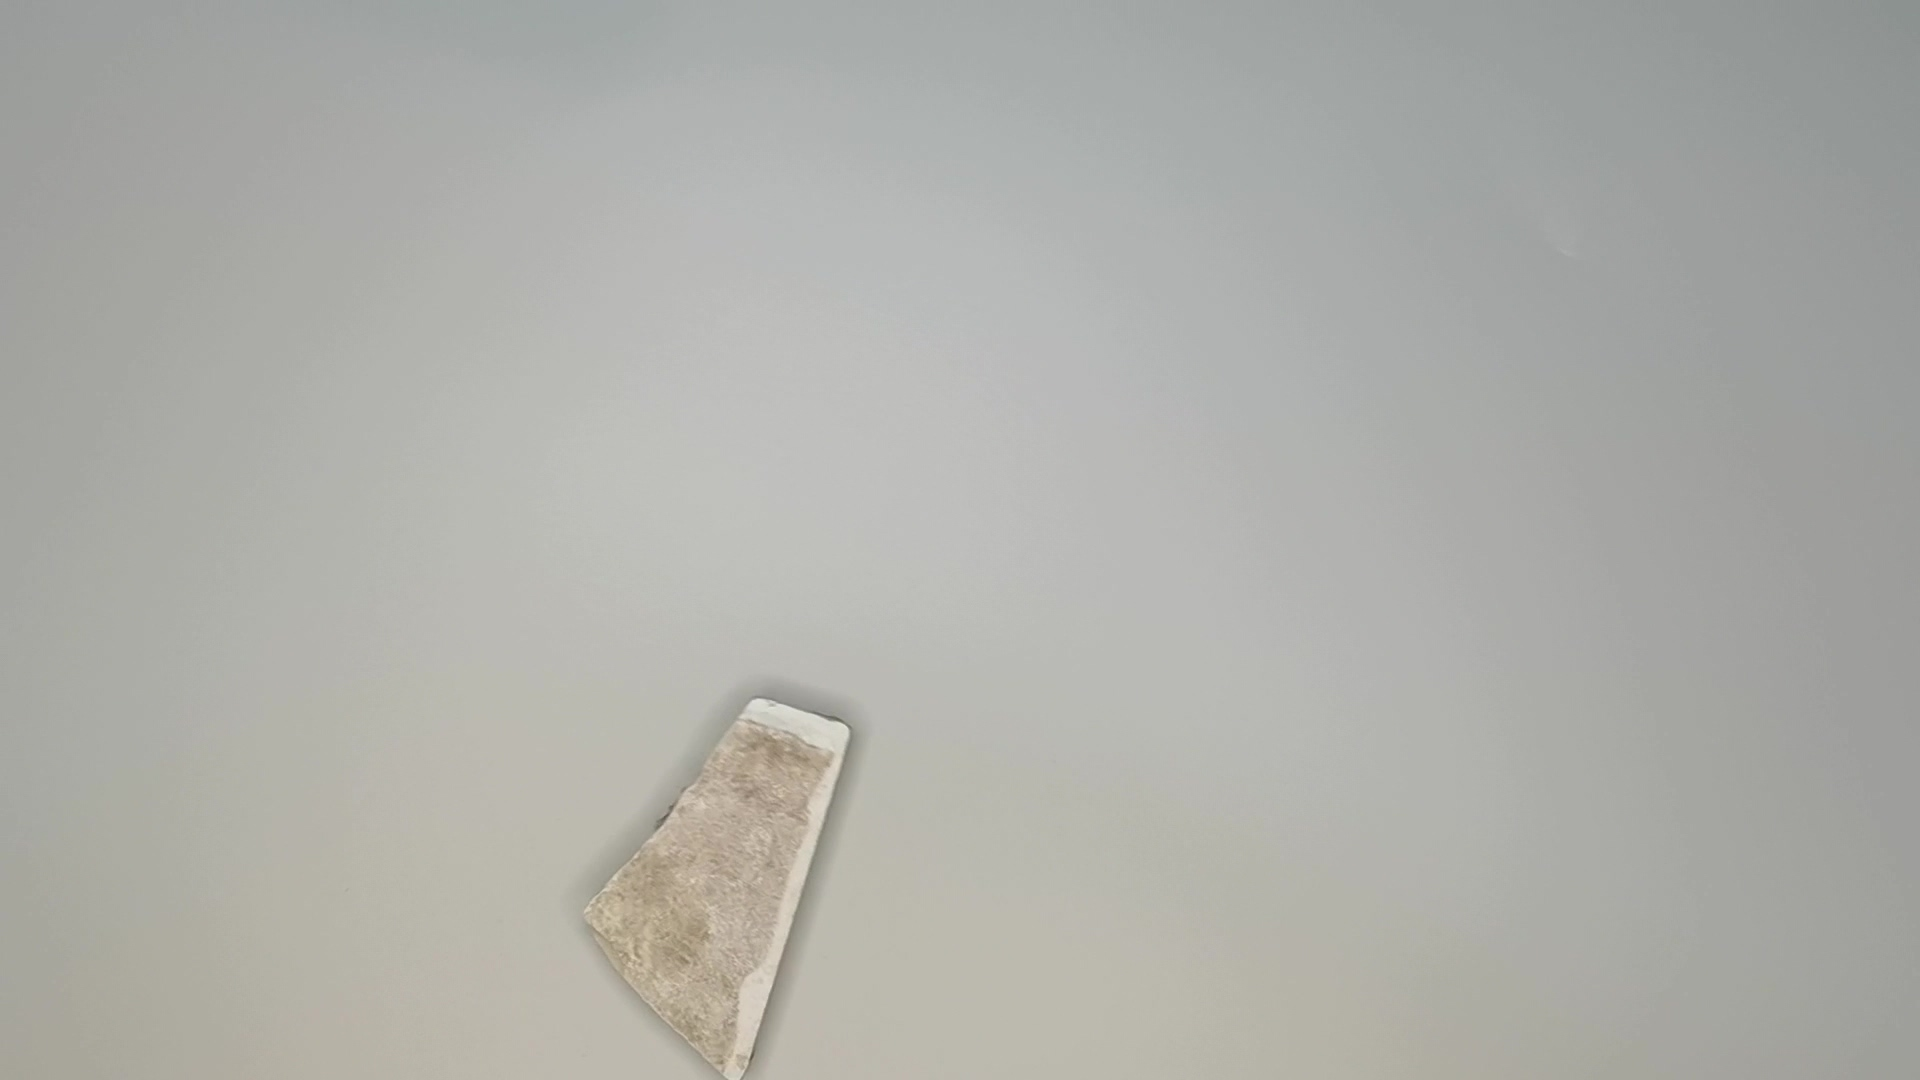ceramic: (574, 702, 862, 1080)
